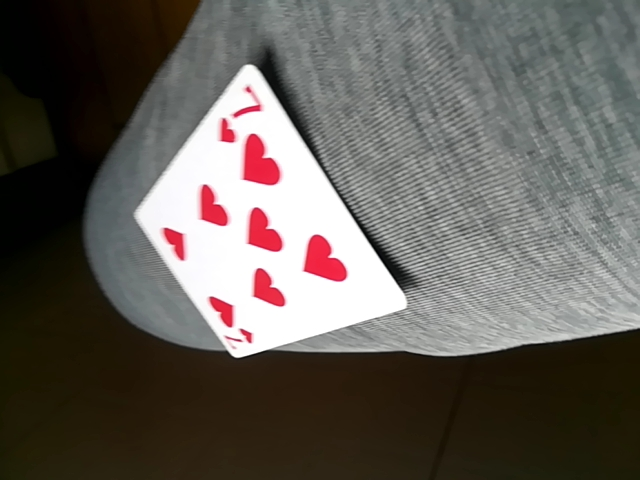hx 7: (133, 61, 409, 361)
